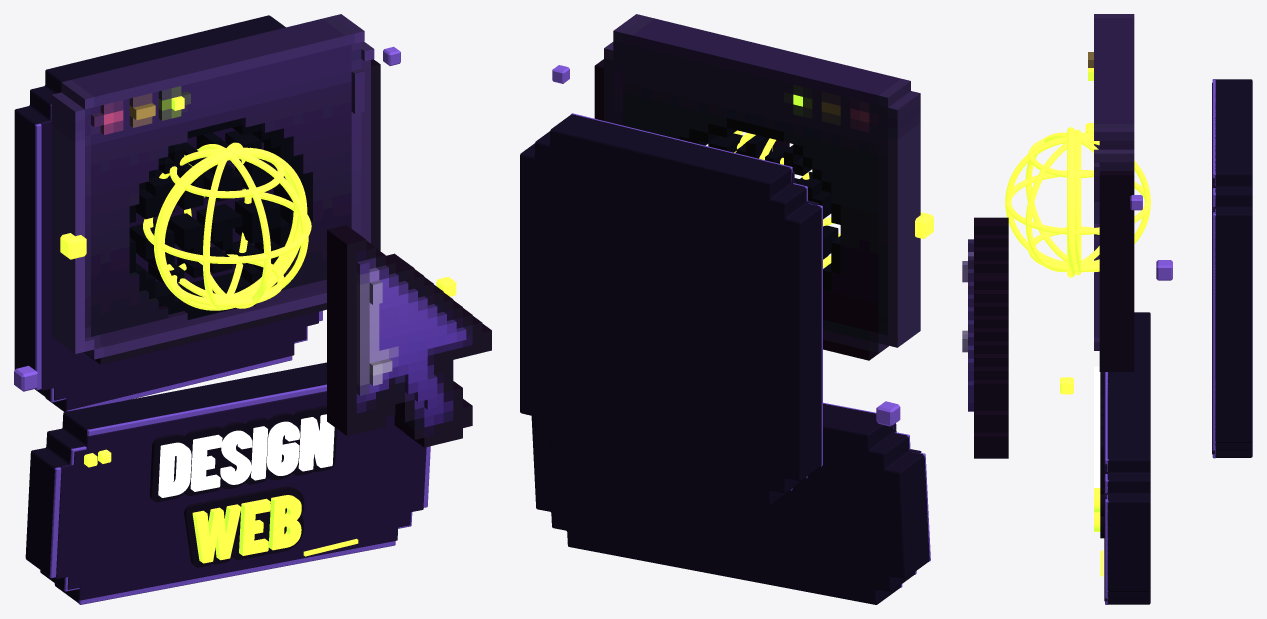
Rendered from web-design.glb.
3 views of the same model, side by side, from view 1: azimuth 30°, elevation 25°; view 2: azimuth 150°, elevation 25°; view 3: azimuth 270°, elevation 25° (orthographic). The views are drawn at different scales.
Parts seen in each view (by area): view 1: objeto, placa_rotulo_face, cursor, placa_traseira_face, placa_traseira_corpo, placa_rotulo_corpo, rotulo_0.001, rotulo_1.001, placa_rotulo_moldura, rotulo_0_contorno.001, globo_contorno.001, placa_traseira_moldura (+8 smaller); view 2: placa_traseira_corpo, objeto, placa_rotulo_corpo, placa_traseira_moldura; view 3: objeto, placa_traseira_corpo, placa_rotulo_corpo, cursor, globo_meridiano_2.001, placa_traseira_moldura, globo_contorno.001, globo_paralelo_1.001, globo_meridiano_3.001, globo_meridiano_0.001, globo_meridiano_1.001, rotulo_0.001 (+5 smaller).
Part boxes in pixels (x1=…): objeto: x1=51, y1=14, x2=380, y2=364; placa_rotulo_face: x1=55, y1=391, x2=426, y2=600; cursor: x1=327, y1=225, x2=491, y2=447; placa_traseira_face: x1=40, y1=120, x2=318, y2=410; placa_traseira_corpo: x1=14, y1=15, x2=285, y2=411; placa_rotulo_corpo: x1=25, y1=362, x2=326, y2=602; rotulo_0.001: x1=158, y1=414, x2=334, y2=497; rotulo_1.001: x1=192, y1=495, x2=301, y2=563; placa_rotulo_moldura: x1=49, y1=384, x2=430, y2=604; rotulo_0_contorno.001: x1=149, y1=405, x2=336, y2=502; globo_contorno.001: x1=155, y1=148, x2=307, y2=310; placa_traseira_moldura: x1=35, y1=104, x2=322, y2=411; placa_traseira_corpo: x1=520, y1=114, x2=821, y2=505; objeto: x1=594, y1=14, x2=920, y2=360; placa_rotulo_corpo: x1=531, y1=403, x2=929, y2=604; placa_traseira_moldura: x1=571, y1=113, x2=822, y2=490; objeto: x1=1088, y1=14, x2=1134, y2=371; placa_traseira_corpo: x1=1215, y1=79, x2=1252, y2=457; placa_rotulo_corpo: x1=1107, y1=312, x2=1150, y2=604; cursor: x1=962, y1=217, x2=1008, y2=458; globo_meridiano_2.001: x1=1005, y1=136, x2=1150, y2=265; placa_traseira_moldura: x1=1212, y1=79, x2=1215, y2=458; globo_contorno.001: x1=1067, y1=127, x2=1075, y2=277; globo_paralelo_1.001: x1=1005, y1=170, x2=1150, y2=234; globo_meridiano_3.001: x1=1025, y1=132, x2=1099, y2=272; globo_meridiano_0.001: x1=1075, y1=129, x2=1081, y2=275; globo_meridiano_1.001: x1=1025, y1=132, x2=1099, y2=272; rotulo_0.001: x1=1094, y1=366, x2=1100, y2=487.
Size of the model in its own units: 2.73 by 3.61 by 2.08.
